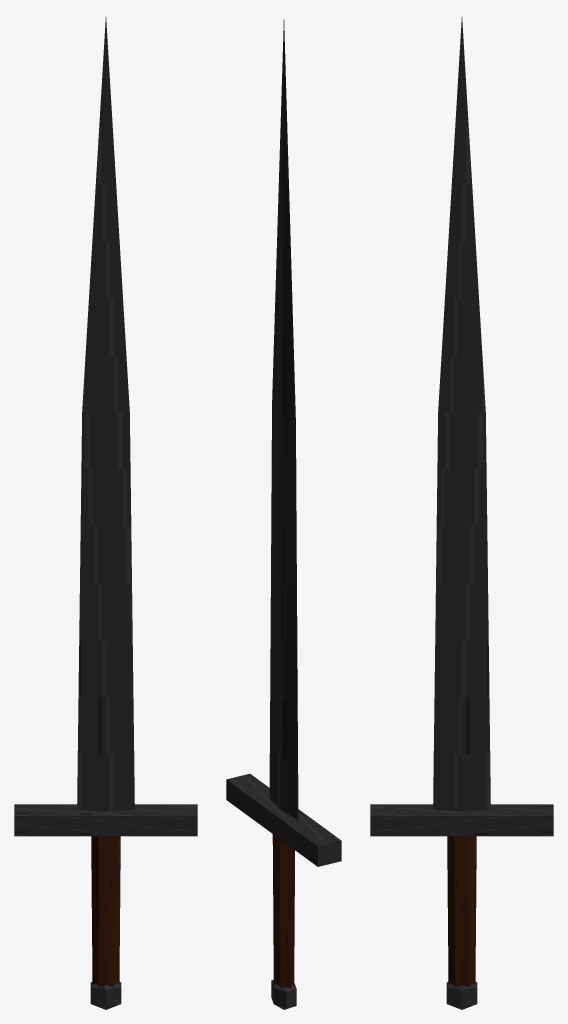
The model's file is espada_larga.glb.
3 renders of one model, left to right at view 1: azimuth 90°, elevation 25°; view 2: azimuth 210°, elevation 25°; view 3: azimuth 270°, elevation 25°, orthographic.
Parts seen in each view (by area): view 1: hoja, guarda, empunadura, pomo; view 2: hoja, guarda, empunadura, pomo; view 3: hoja, guarda, empunadura, pomo.
Part boxes in pixels (left/top/right/bottom): hoja: left=77, top=17, right=134, bottom=810; guarda: left=14, top=804, right=197, bottom=836; empunadura: left=91, top=836, right=120, bottom=987; pomo: left=90, top=982, right=121, bottom=1009; hoja: left=269, top=19, right=298, bottom=819; guarda: left=226, top=773, right=341, bottom=866; empunadura: left=272, top=834, right=294, bottom=988; pomo: left=271, top=980, right=296, bottom=1009; hoja: left=433, top=17, right=490, bottom=810; guarda: left=370, top=804, right=553, bottom=836; empunadura: left=447, top=836, right=476, bottom=987; pomo: left=446, top=982, right=477, bottom=1009.
Bounding box in the file's own units: 0.03 × 1.2 × 0.2.
1 material, 1 textured.
